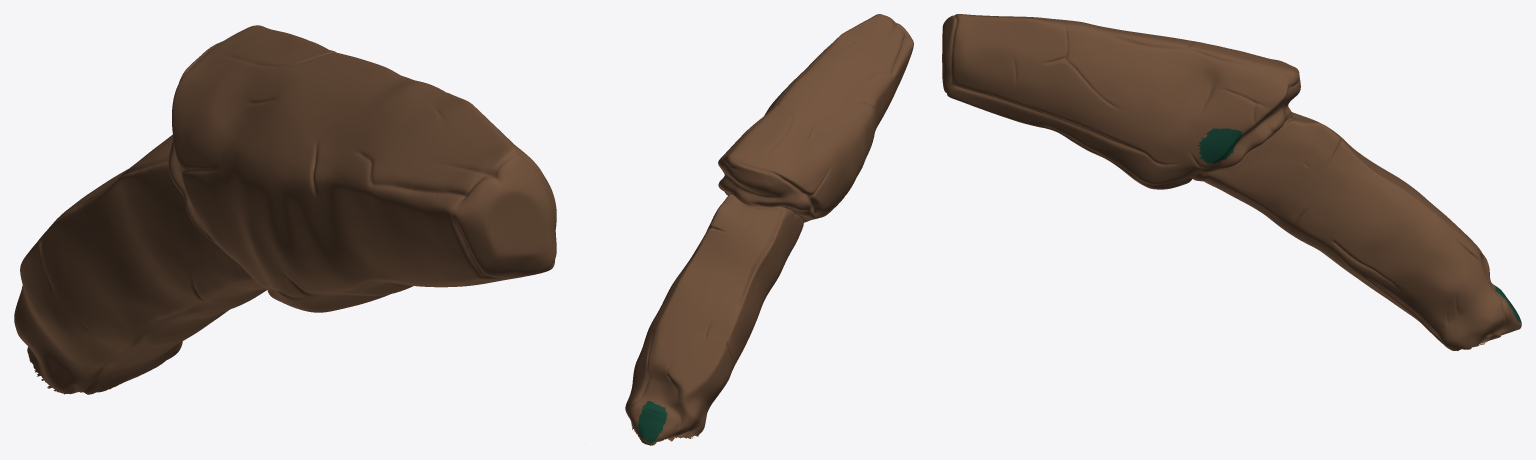
The model's file is piernaIzqRocky.obj.
3 renders of one model, left to right at view 1: azimuth 30°, elevation 25°; view 2: azimuth 150°, elevation 25°; view 3: azimuth 270°, elevation 25°, orthographic. The views are drawn at different scales.
Parts seen in each view (by area): view 1: piernaIzq_colorCafe; view 2: piernaIzq_colorCafe, piernaIzq_Material.002; view 3: piernaIzq_colorCafe, piernaIzq_Material.002.
Boxes of the visible parts, x1,y1,x2,y2 form: piernaIzq_colorCafe: (14,25,556,394); piernaIzq_colorCafe: (625,14,913,445); piernaIzq_Material.002: (638,401,667,443); piernaIzq_colorCafe: (942,14,1521,350); piernaIzq_Material.002: (1197,128,1521,322).
Bounding box in the file's own units: 0.2086 × 0.4113 × 0.5784.
